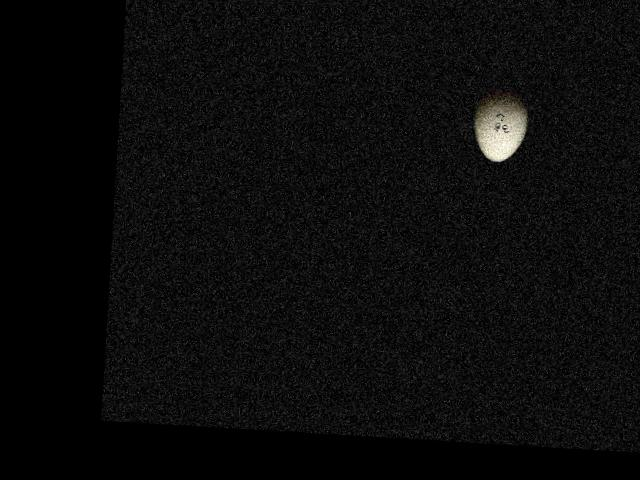egg: (472, 90, 529, 163)
